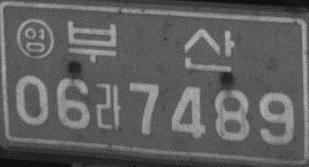0: (14, 73, 50, 127)
4: (170, 85, 206, 140)
6: (55, 77, 90, 130)
7: (128, 81, 160, 137)
8: (214, 89, 250, 142)
9: (258, 92, 294, 145)
라: (95, 82, 123, 130)
부산_D: (67, 20, 235, 74)
영: (15, 17, 54, 60)
